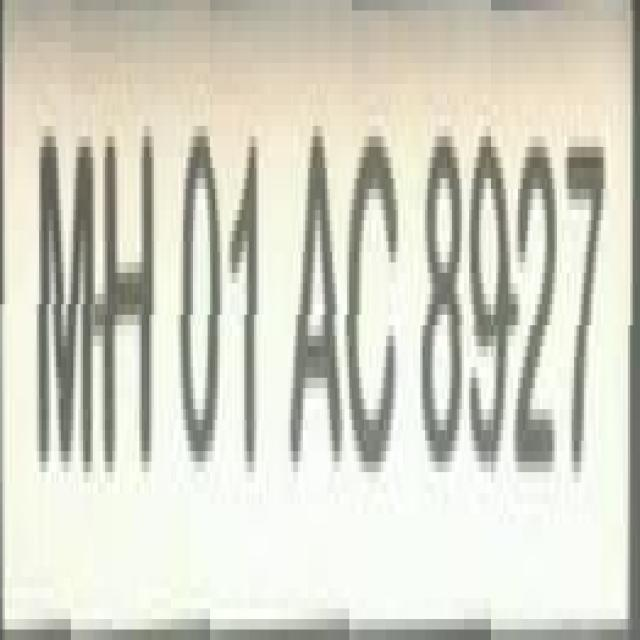license_plate: (7, 0, 601, 640)
